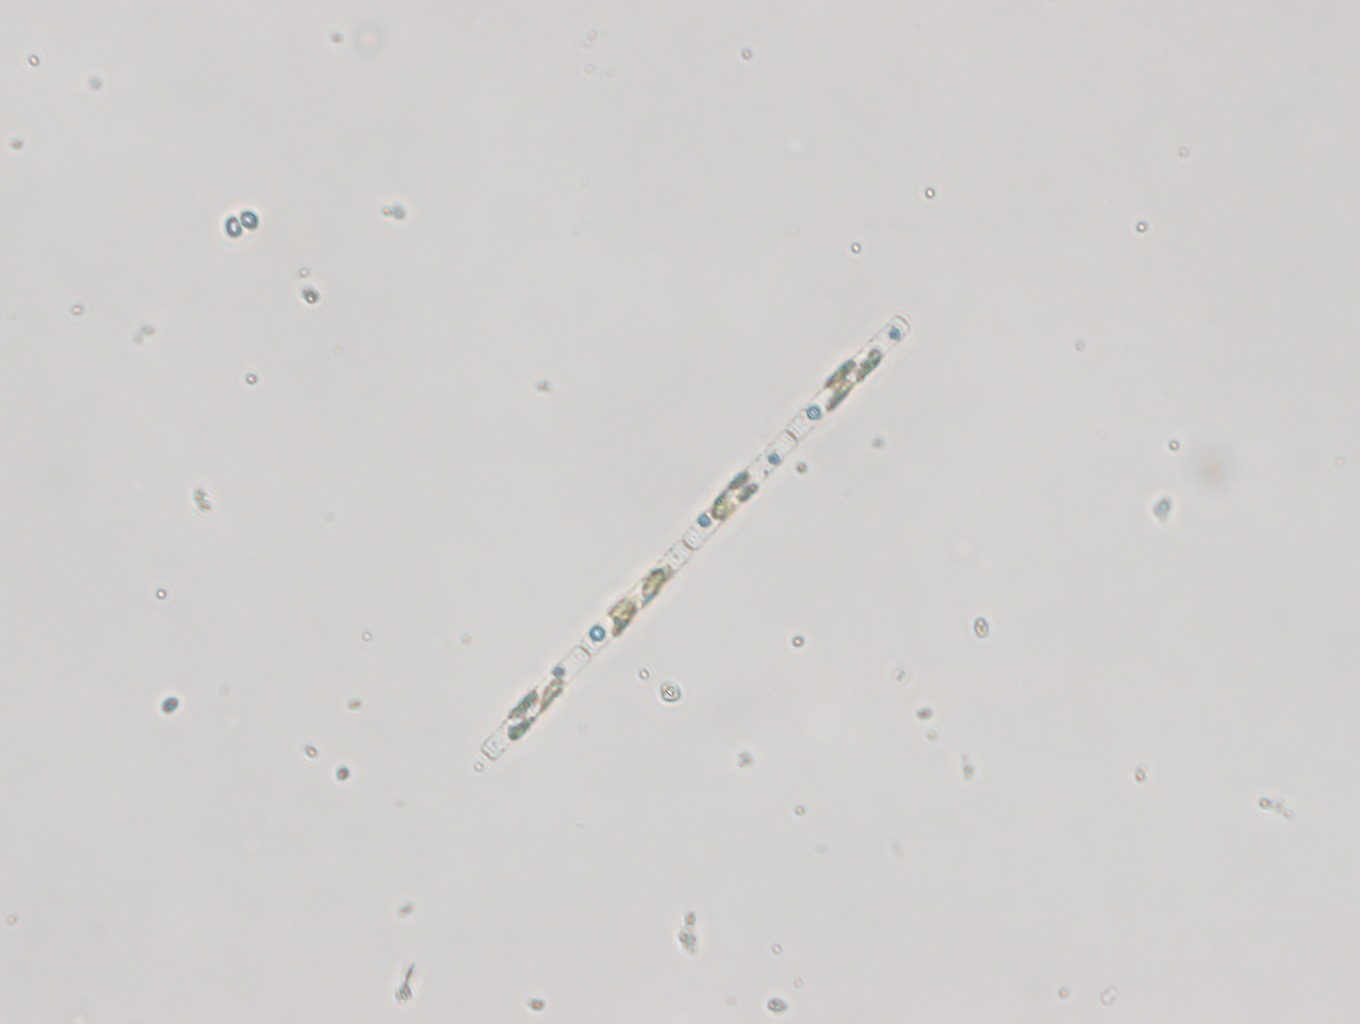guinardia flaccida: (481, 305, 912, 763)
